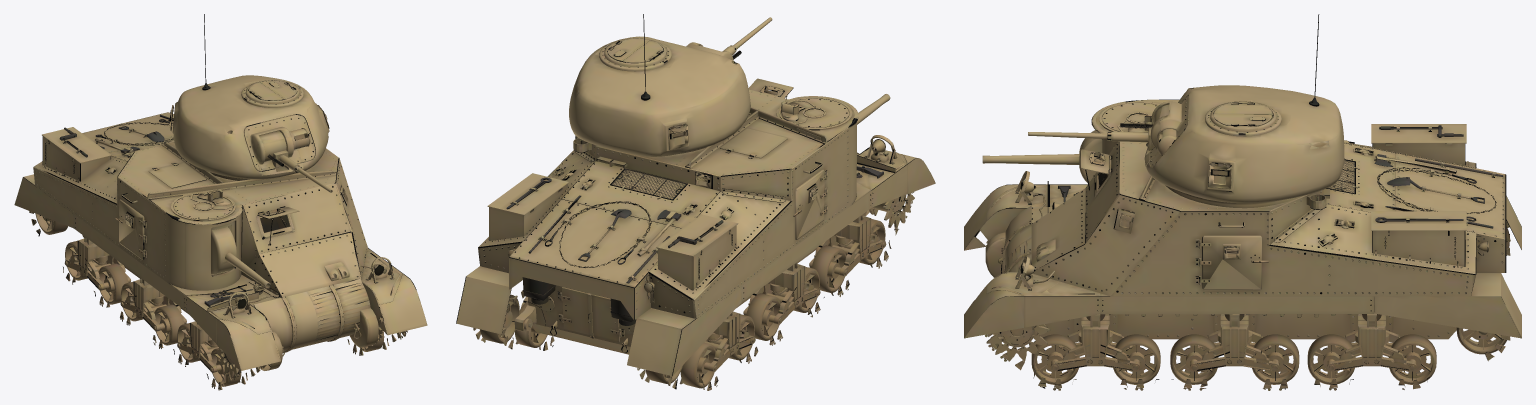
Rendered from M3Grant.glb.
3 renders of one model, left to right at view 1: azimuth 30°, elevation 25°; view 2: azimuth 150°, elevation 25°; view 3: azimuth 270°, elevation 25°, orthographic. The views are drawn at different scales.
Visible parts, largest first — view 1: Wanne, turm37, kanone37, cannon, radR4, radR2, radR6, radR3, radR5, radR1, radR0; view 2: Wanne, turm37, radR5, radR3, radR1, radL0, radR7, radR6, radR2, radR4, radL1; view 3: Wanne, turm37, radL3, radL5, radL1, radL4, radL2, radL6, kanone37, cannon, radL7, radL0.
Boxes of the visible parts, x1,y1,x2,y2 form: Wanne: [14, 112, 427, 381]; turm37: [169, 14, 329, 180]; kanone37: [257, 132, 332, 192]; cannon: [211, 226, 270, 288]; radR4: [146, 304, 186, 348]; radR2: [90, 263, 130, 307]; radR6: [203, 348, 247, 390]; radR3: [120, 282, 149, 325]; radR5: [173, 323, 206, 366]; radR1: [63, 241, 93, 284]; radR0: [29, 211, 67, 234]; Wanne: [456, 78, 935, 389]; turm37: [569, 14, 750, 156]; radR5: [809, 245, 855, 296]; radR3: [743, 293, 790, 345]; radR1: [677, 342, 725, 390]; radL0: [473, 294, 519, 345]; radR7: [872, 192, 914, 230]; radR6: [852, 219, 891, 268]; radR2: [721, 314, 758, 363]; radR4: [786, 267, 824, 317]; radL1: [512, 300, 554, 350]; Wanne: [964, 99, 1521, 371]; turm37: [1145, 14, 1344, 208]; radL3: [1251, 334, 1299, 390]; radL5: [1112, 334, 1160, 390]; radL1: [1388, 334, 1436, 389]; radL4: [1170, 334, 1218, 390]; radL2: [1307, 334, 1355, 390]; radL6: [1031, 334, 1079, 390]; kanone37: [1028, 105, 1163, 166]; cannon: [982, 130, 1102, 183]; radL7: [985, 325, 1047, 362]; radL0: [1456, 327, 1510, 358].
Size of the model in its own units: 2.87 by 3.75 by 5.65.
Materials: 1 (1 with a texture image).
